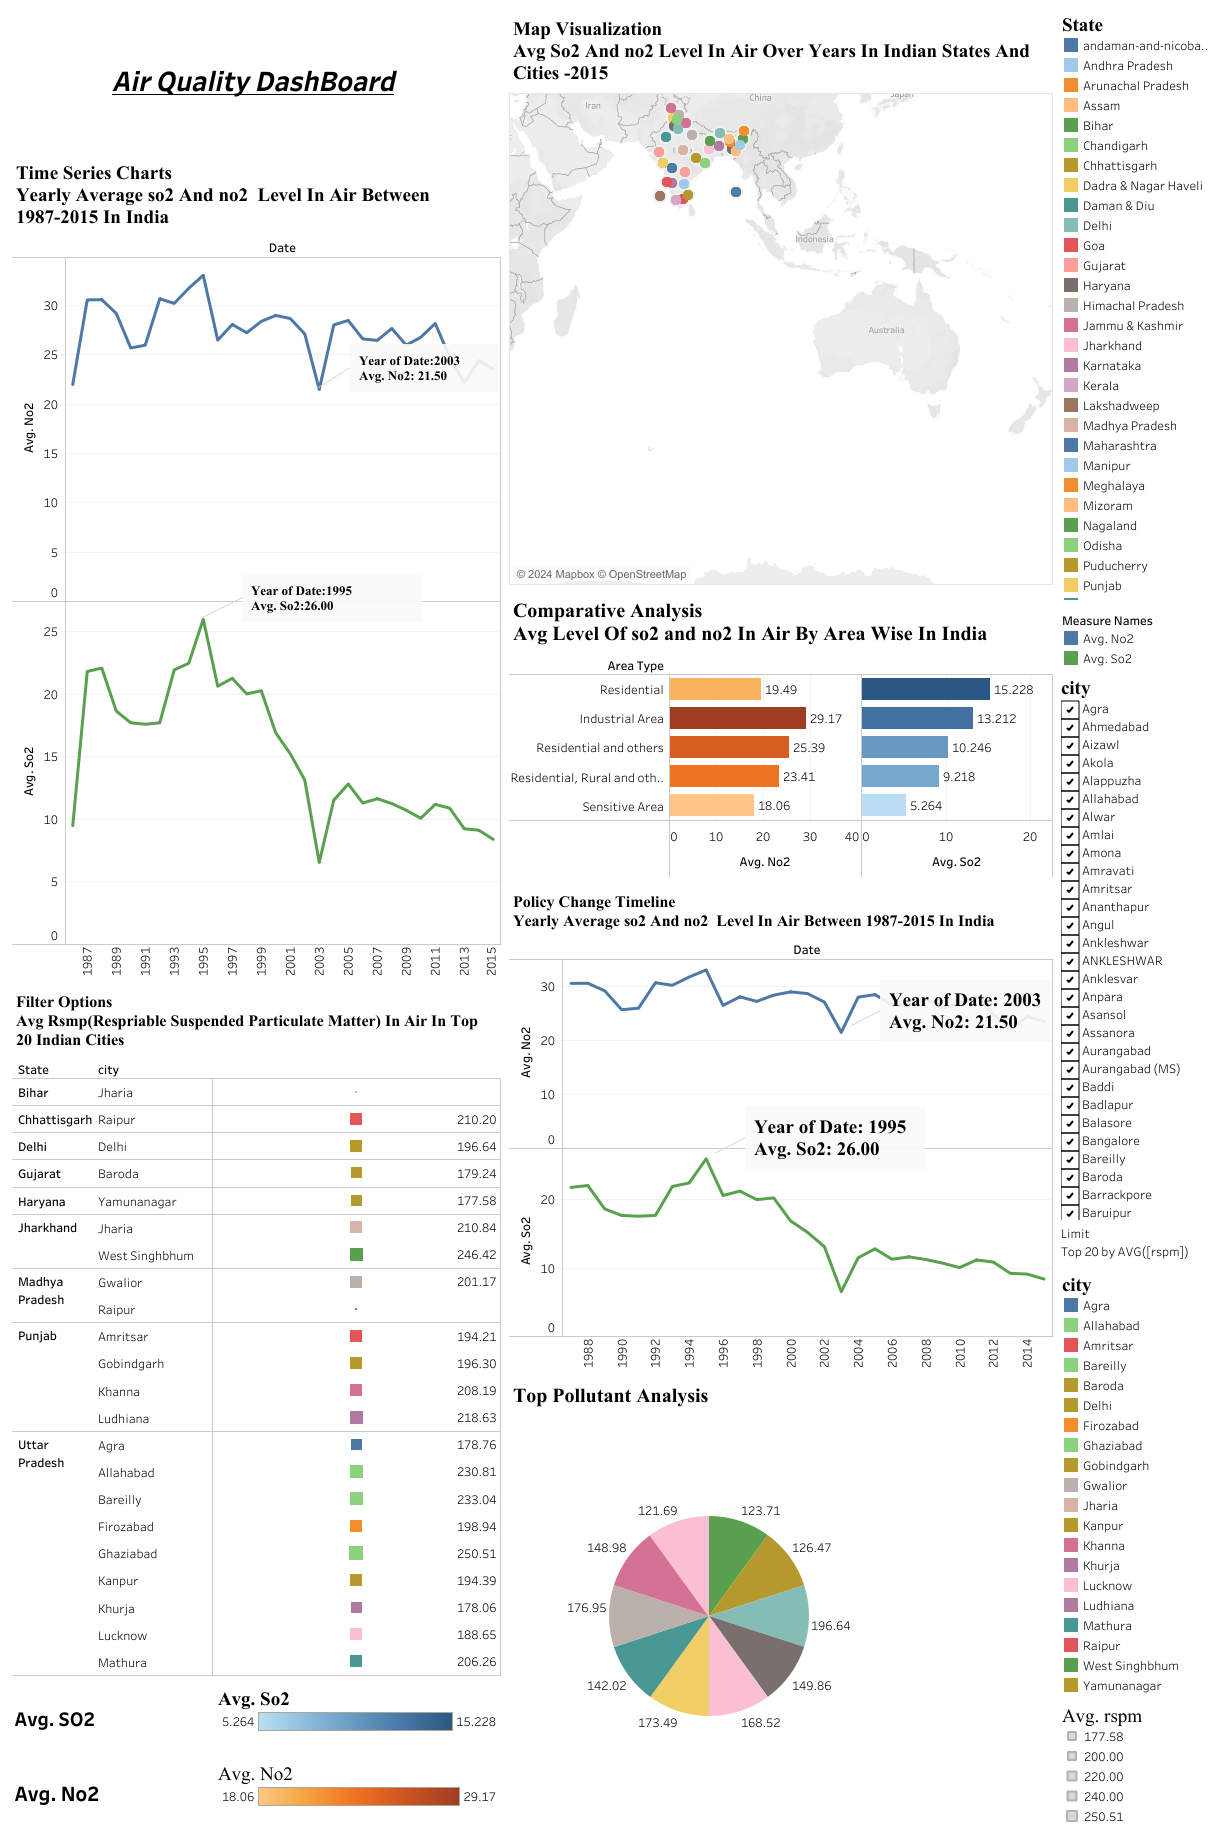

The page's visual inventory and layout, read from the dashboard file:
{"tool":"tableau","page":{"name":"Air quality data dashboard","canvas":[1169,827],"ordinal":0},"visuals":[{"type":"worksheet","title":"3","mark":"Automatic","rows":["no2","so2"],"cols":["date"],"box":[834,21,327,209]},{"type":"worksheet","title":"2","mark":"Automatic","rows":["no2","so2"],"cols":["date"],"box":[484,23,335,205]},{"type":"text","box":[10,25,294,62]},{"type":"worksheet","title":"1","mark":"Automatic","box":[6,85,301,236]},{"type":"legend","title":"1","param":"[federated.12zb7un174lf200zke9t30y4p6y1].[none:state:nk]","box":[307,87,172,211]},{"type":"legend","title":"3","param":"[federated.12zb7un174lf200zke9t30y4p6y1].[:Measure Names]","box":[702,118,140,58]},{"type":"worksheet","title":"6","mark":"Pie","box":[481,236,629,330]},{"type":"filter","title":"6","param":"[federated.12zb7un174lf200zke9t30y4p6y1].[avg:rspm:qk]","box":[914,241,160,61]},{"type":"highlighter","title":"6","param":"[federated.12zb7un174lf200zke9t30y4p6y1].[none:state:nk]","box":[919,323,160,195]},{"type":"worksheet","title":"4","mark":"Automatic","rows":["state","location"],"box":[4,328,260,255]},{"type":"legend","title":"4","param":"[federated.12zb7un174lf200zke9t30y4p6y1].[none:location:nk]","box":[275,329,140,121]},{"type":"legend","title":"4","param":"[federated.12zb7un174lf200zke9t30y4p6y1].[avg:rspm:qk]","box":[275,462,140,123]},{"type":"filter","title":"5","param":"[federated.12zb7un174lf200zke9t30y4p6y1].[avg:so2:qk]","box":[929,535,99,61]},{"type":"filter","title":"5","param":"[federated.12zb7un174lf200zke9t30y4p6y1].[avg:no2:qk]","box":[1035,535,90,61]},{"type":"worksheet","title":"5","mark":"Automatic","rows":["type"],"cols":["no2","so2"],"box":[2,583,938,217]}]}

Visuals, with their boxes on the page's 1169x827 design canvas (x1, y1, x2, y2). These are canvas units, not pixel positions in the 1224x1837 screenshot, which may show the page scaled, cropped or inside an application window:
"3" worksheet: x1=834 y1=21 x2=1161 y2=230
"2" worksheet: x1=484 y1=23 x2=819 y2=228
text: x1=10 y1=25 x2=304 y2=87
"1" worksheet: x1=6 y1=85 x2=307 y2=321
"1" legend: x1=307 y1=87 x2=479 y2=298
"3" legend: x1=702 y1=118 x2=842 y2=176
"6" worksheet (Pie marks): x1=481 y1=236 x2=1110 y2=566
"6" filter: x1=914 y1=241 x2=1074 y2=302
"6" highlighter: x1=919 y1=323 x2=1079 y2=518
"4" worksheet: x1=4 y1=328 x2=264 y2=583
"4" legend: x1=275 y1=329 x2=415 y2=450
"4" legend: x1=275 y1=462 x2=415 y2=585
"5" filter: x1=929 y1=535 x2=1028 y2=596
"5" filter: x1=1035 y1=535 x2=1125 y2=596
"5" worksheet: x1=2 y1=583 x2=940 y2=800
